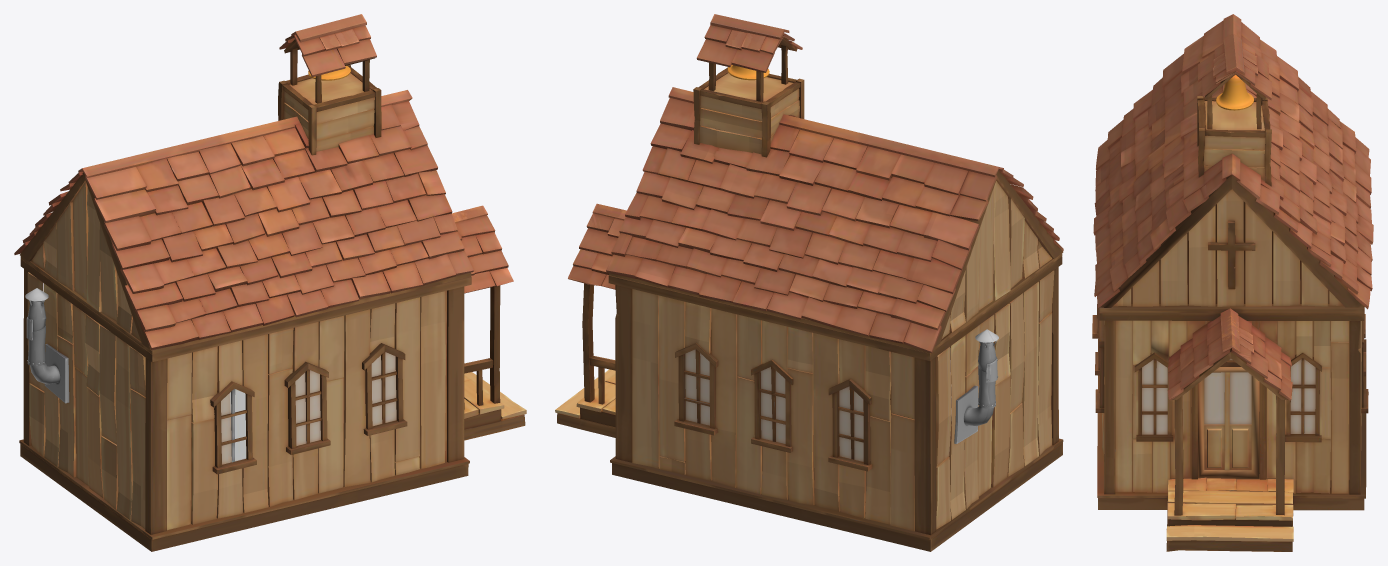
Rendered from iglesia.obj.
The picture shows the model from 3 angles, left to right: view 1: azimuth 30°, elevation 25°; view 2: azimuth 150°, elevation 25°; view 3: azimuth 270°, elevation 25°; orthographic projection.
Parts seen in each view (by area): view 1: Object_4_Material.007; view 2: Object_4_Material.007; view 3: Object_4_Material.007.
Part boxes in pixels (<box>): Object_4_Material.007: <box>14,14,526,551</box>; Object_4_Material.007: <box>555,14,1063,551</box>; Object_4_Material.007: <box>1092,14,1373,551</box>.
Bounding box in the file's own units: 10.17 × 9.33 × 5.6.
